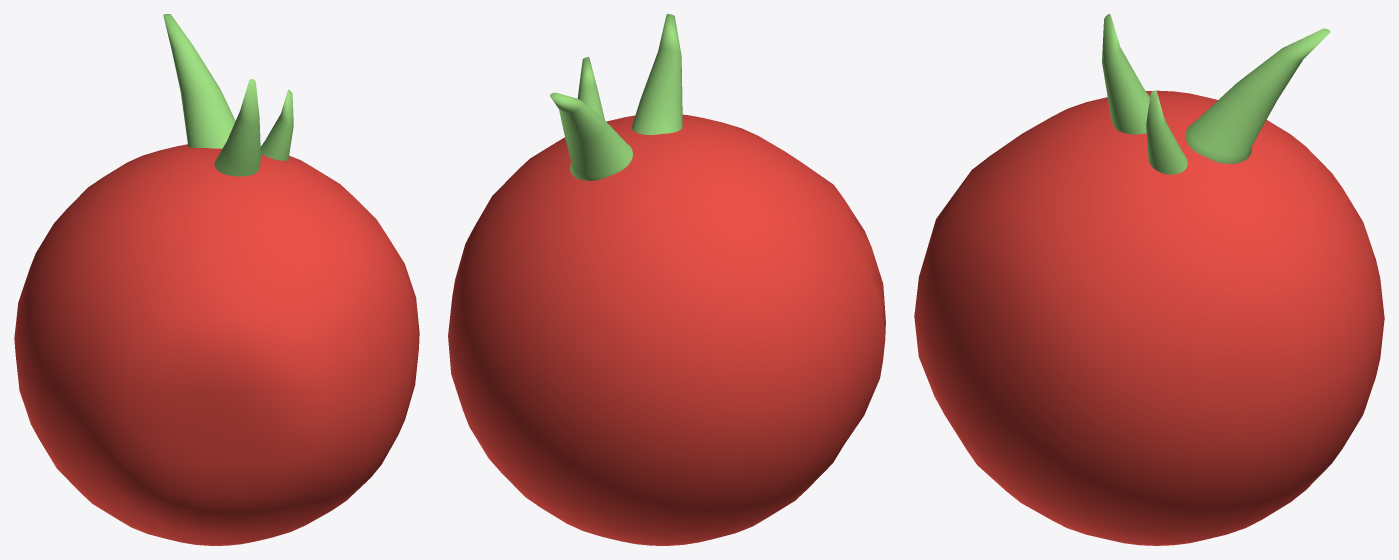
Rendered from tomato.fbx.
The picture shows the model from 3 angles, left to right: view 1: azimuth 30°, elevation 25°; view 2: azimuth 150°, elevation 25°; view 3: azimuth 270°, elevation 25°; orthographic projection. The views are drawn at different scales.
Parts seen in each view (by area): view 1: Tomato01, TomatoGreens.001, TomatoGreens.012, TomatoGreens.013; view 2: Tomato01, TomatoGreens.001, TomatoGreens.012, TomatoGreens.013; view 3: Tomato01, TomatoGreens.001, TomatoGreens.012, TomatoGreens.013.
Boxes of the visible parts, <box> form: Tomato01: <box>14,144,419,545</box>; TomatoGreens.001: <box>163,14,235,148</box>; TomatoGreens.012: <box>214,79,260,176</box>; TomatoGreens.013: <box>260,90,293,160</box>; Tomato01: <box>448,114,885,545</box>; TomatoGreens.001: <box>550,92,632,180</box>; TomatoGreens.012: <box>631,14,682,134</box>; TomatoGreens.013: <box>577,57,604,119</box>; Tomato01: <box>914,90,1384,545</box>; TomatoGreens.001: <box>1185,28,1330,163</box>; TomatoGreens.012: <box>1102,14,1165,134</box>; TomatoGreens.013: <box>1146,90,1187,174</box>.
Size of the model in its own units: 236 by 296 by 243.
